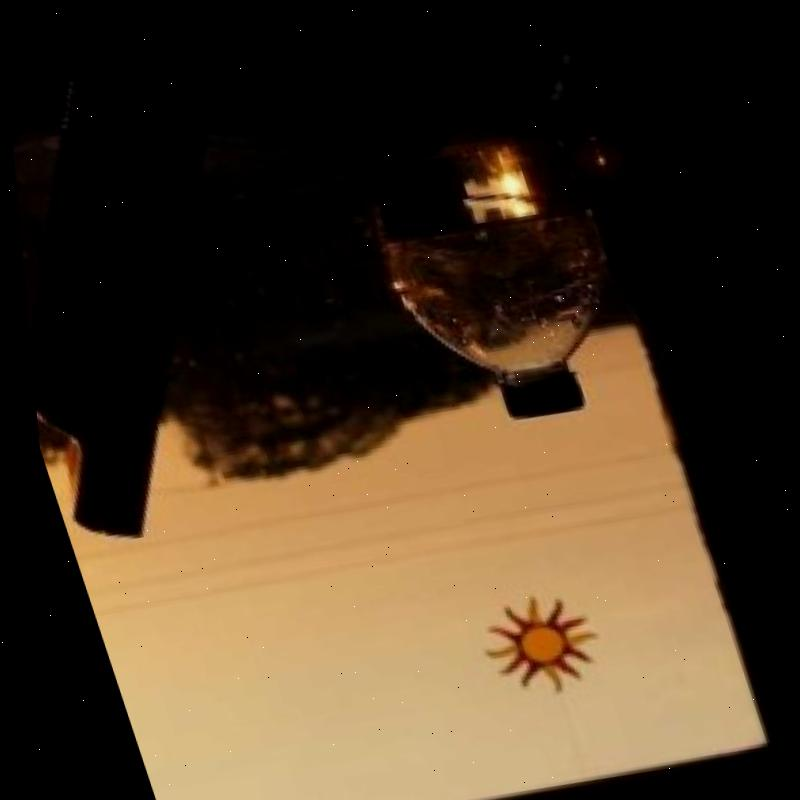botella: (368, 179, 653, 437)
